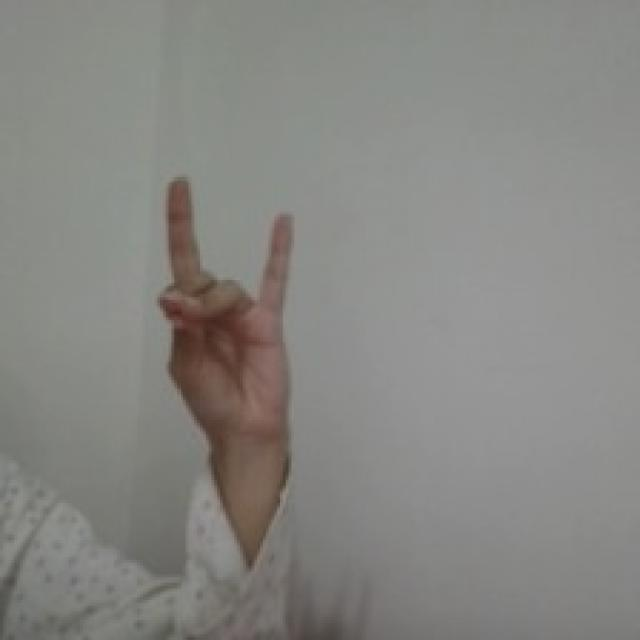Dog: (147, 170, 306, 444)
